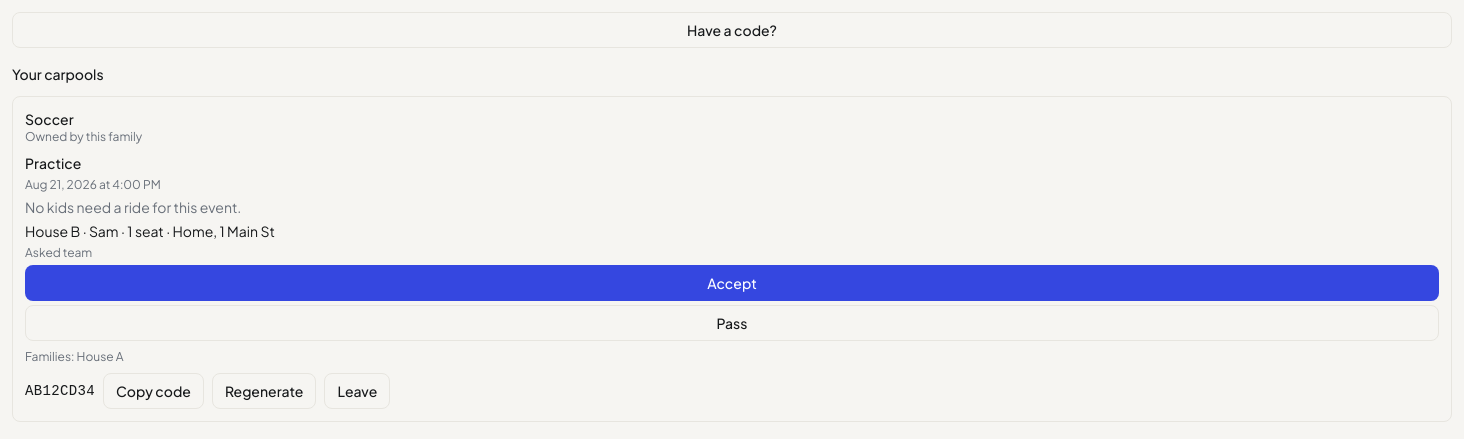
Test: CarpoolPanel › passes a pending other ask and keeps Accept-after-Pass
Step 1. Click the button "Pass" → coordinates (732, 323), box [25,305,1439,341]
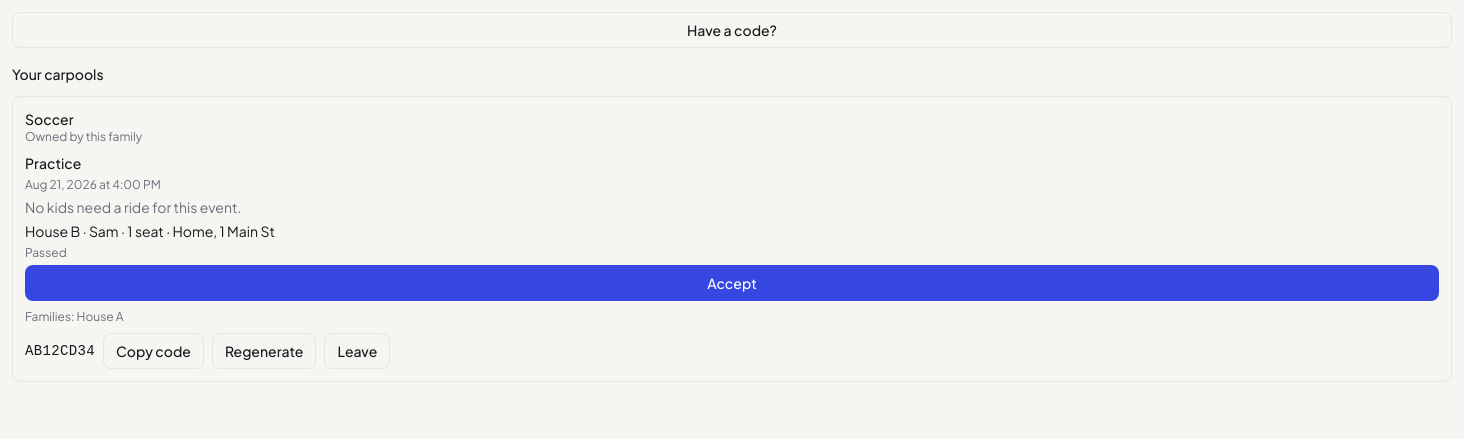
Expected: the button "Accept" is shown, [25,265,1439,301]
Now the text "Passed" is shown, box [25,245,67,260]
